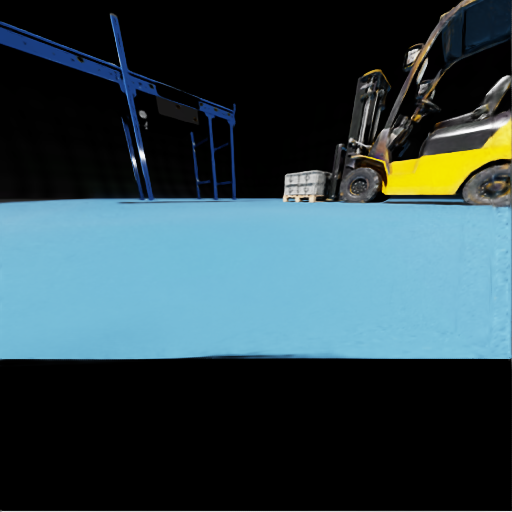transportation_area: (298, 183, 329, 194), (139, 83, 140, 84), (120, 76, 121, 77), (24, 42, 25, 43), (19, 35, 20, 36)
